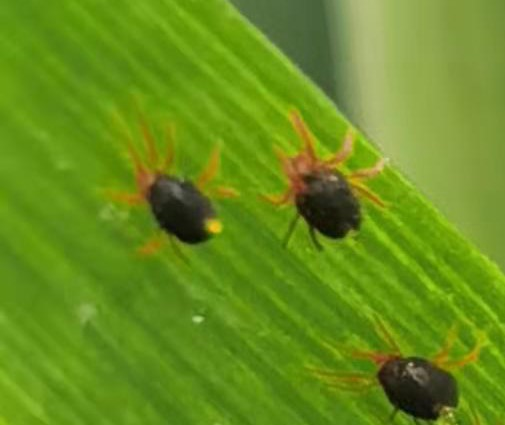Wheat Red Spider: (243, 99, 400, 264)
